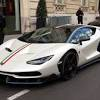Lamborghini: (1, 26, 100, 84)
